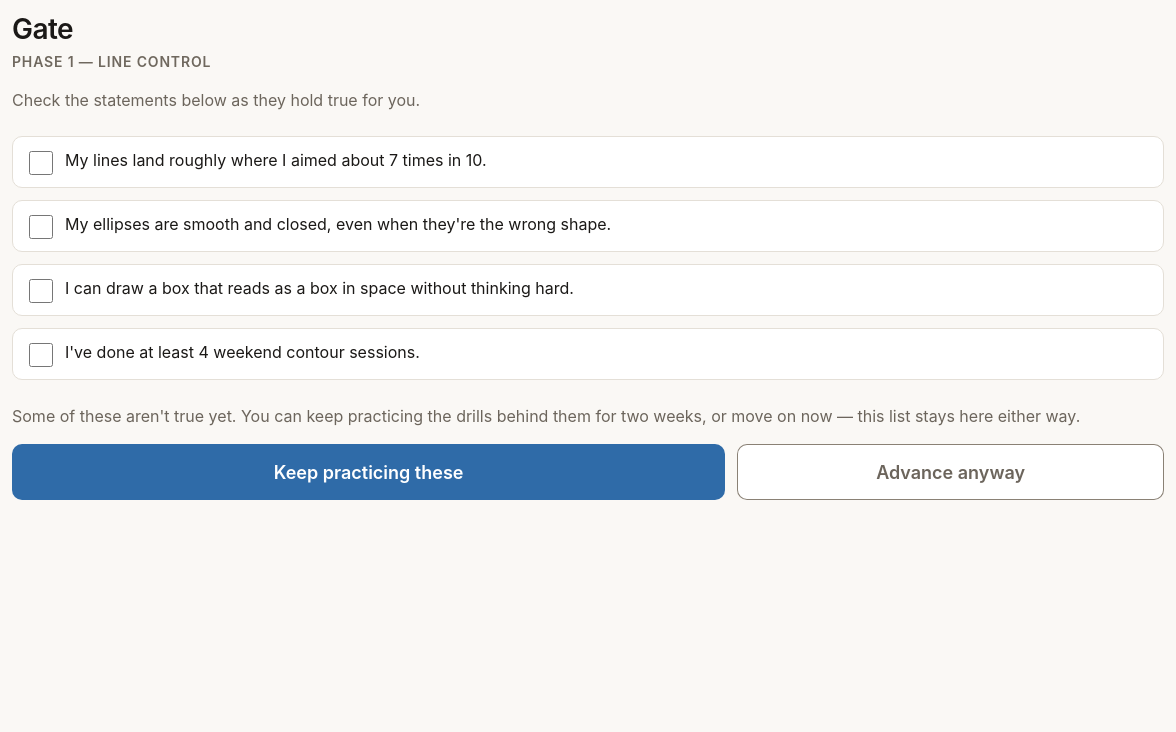
it: Gate › shows Advance to Phase N once every statement is ticked
Click the checkbox labelled "My lines land roughly where I aimed about 7 times in 10.": coordinates (41, 163) x1=29 y1=151 x2=53 y2=175
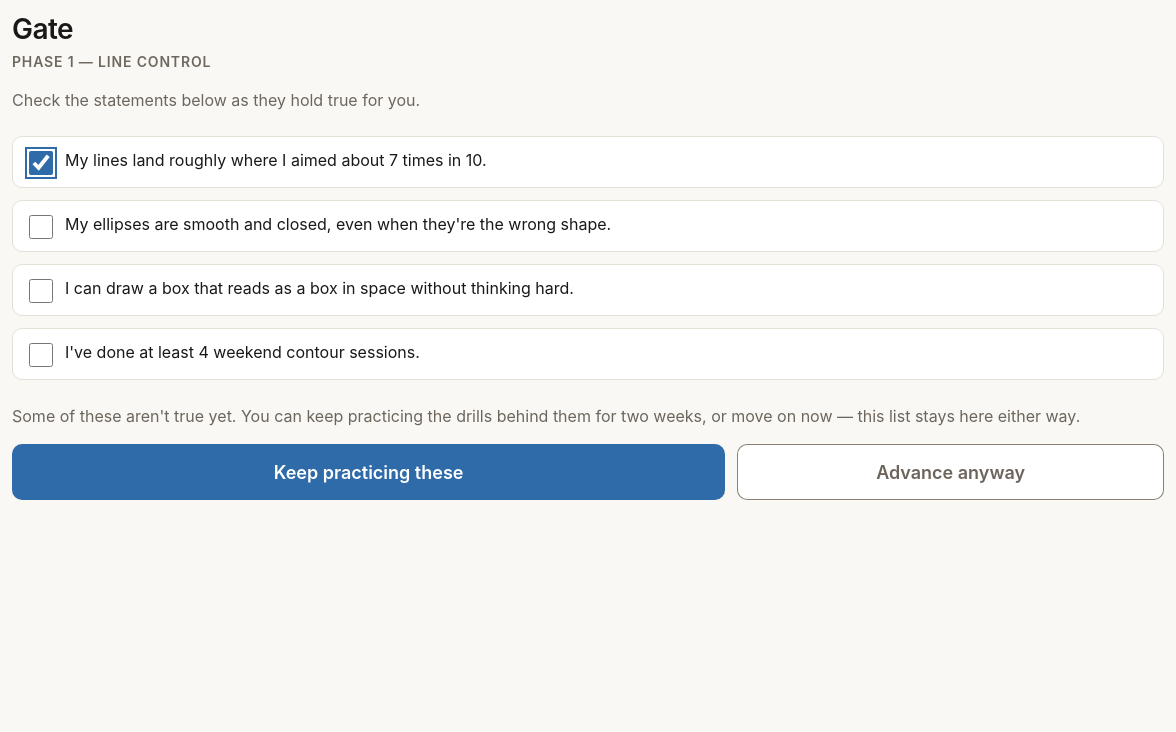
Click the 2nd checkbox: coordinates (41, 227) x1=29 y1=215 x2=53 y2=239
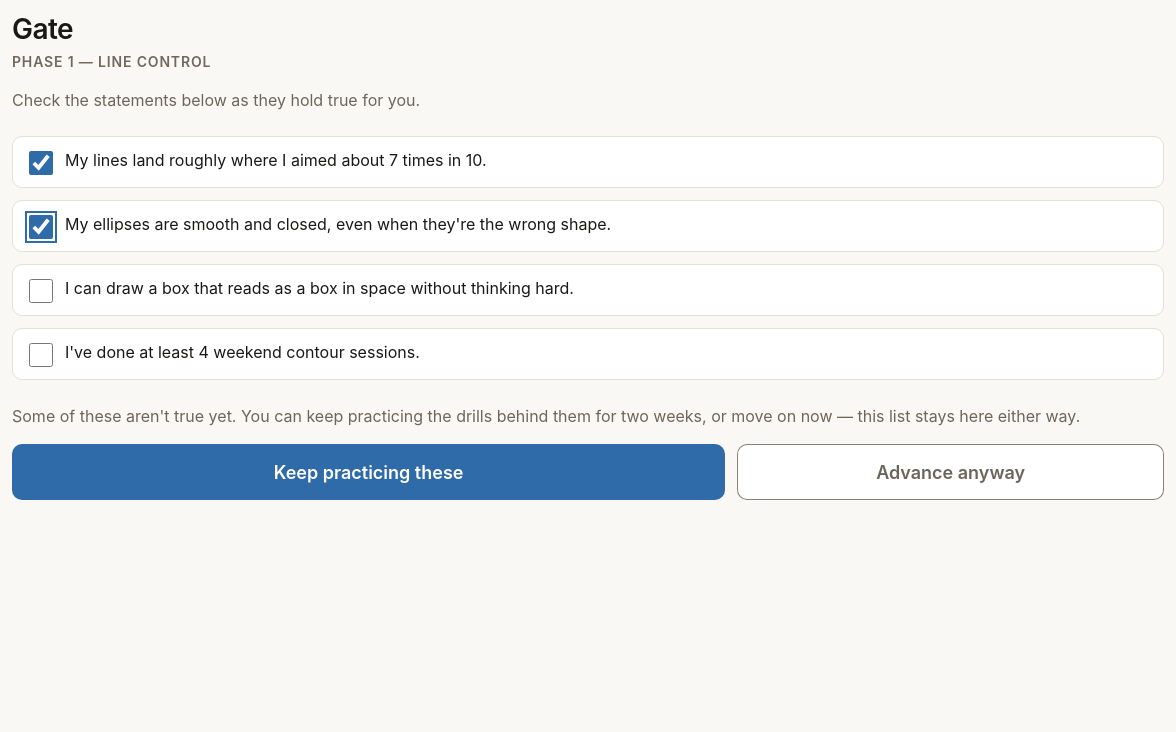
Click the 3rd checkbox: coordinates (41, 291) x1=29 y1=279 x2=53 y2=303
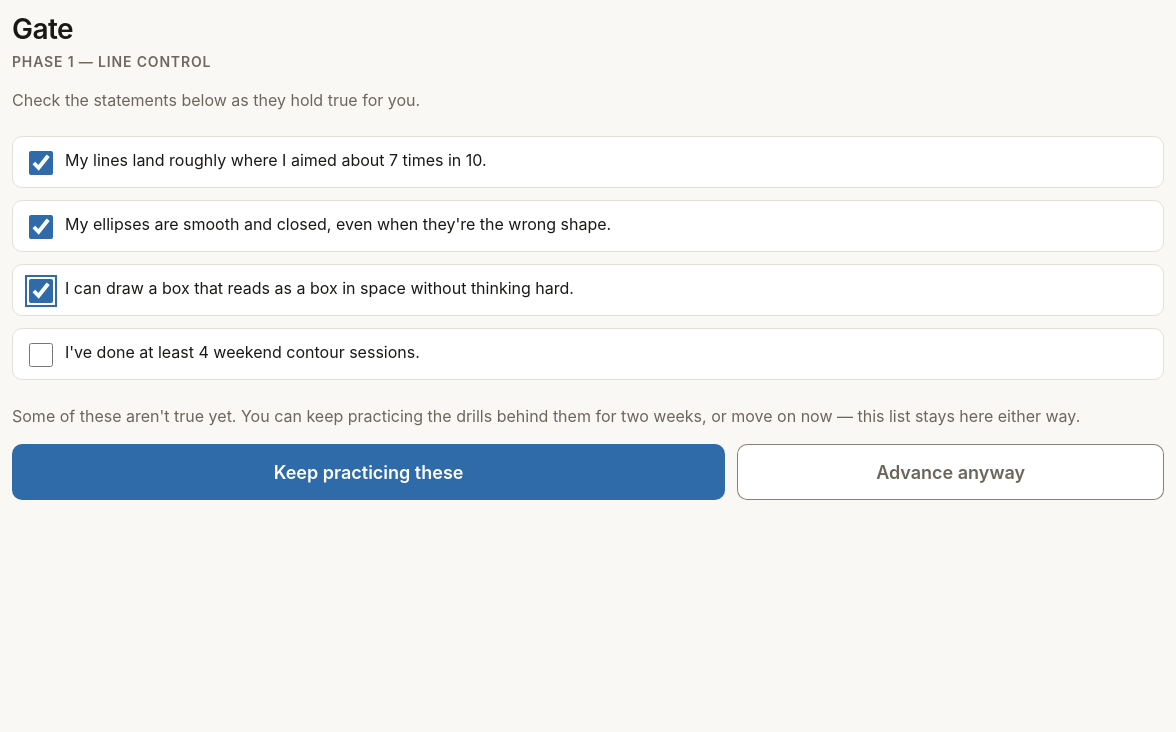
Click the checkbox labelled "I've done at least 4 weekend contour sessions.": coordinates (41, 355) x1=29 y1=343 x2=53 y2=367
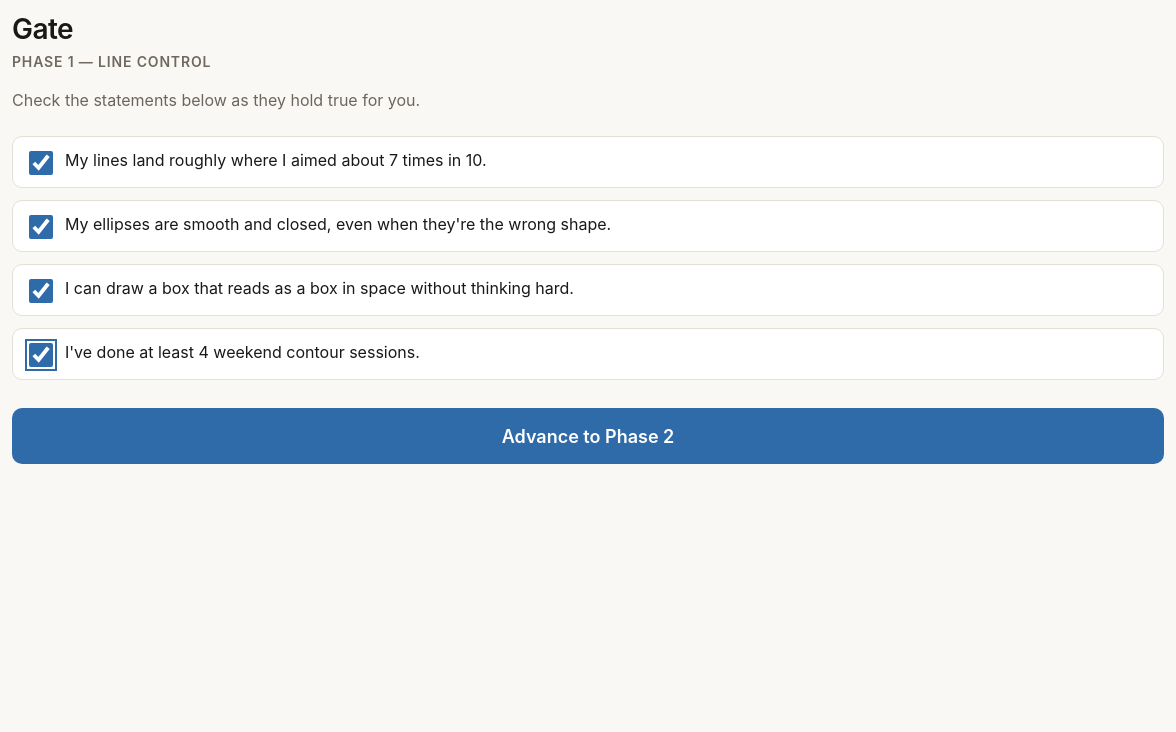
expect the button "Advance to Phase 2" is shown: met, box x1=12 y1=408 x2=1164 y2=464
expect the button "Advance anyway" is gone: met
